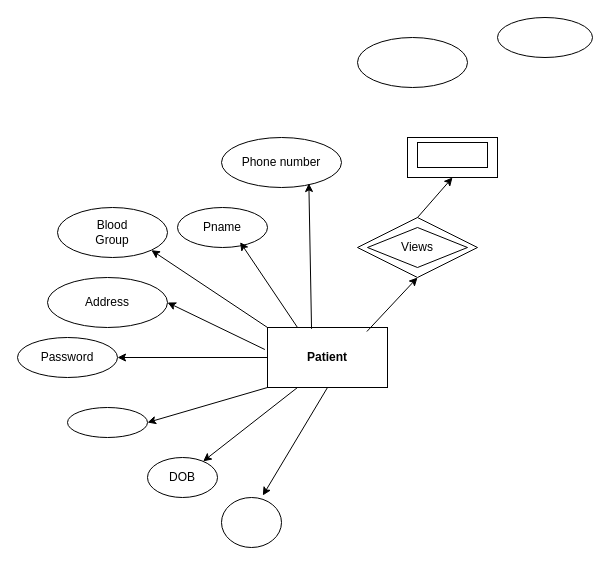
Some shapes in this 610 by 565 pixel diagram are drawn without their labels. The shapes that lost their labels are listed below. From the top down, each one's centre as x and y in pixels, then its label:
[544,37]: Disease
[412,62]: Treatment
[452,155]: History
[107,422]: UID
[251,522]: SEX
